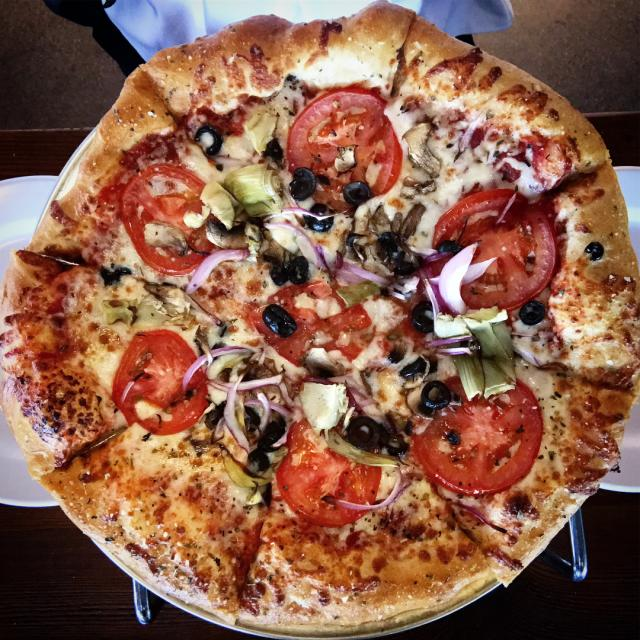black_olives: (347, 415, 388, 453), (263, 301, 298, 341), (286, 166, 320, 202), (193, 122, 224, 159), (514, 296, 548, 328), (410, 300, 439, 334), (422, 378, 450, 413), (338, 179, 374, 206), (306, 200, 333, 233), (237, 403, 263, 432), (400, 356, 431, 378), (267, 258, 288, 290), (289, 254, 311, 284), (246, 449, 272, 474), (263, 420, 284, 450), (98, 269, 132, 287), (382, 439, 412, 458), (206, 402, 226, 430), (437, 239, 466, 258), (380, 231, 402, 253), (394, 261, 419, 276), (348, 235, 366, 255), (266, 142, 284, 161)
pizza: (0, 0, 640, 639)
tomatoes: (412, 372, 548, 498), (429, 186, 562, 309), (286, 86, 404, 216), (274, 418, 384, 526), (119, 161, 215, 277), (107, 326, 207, 434), (257, 286, 374, 369)
